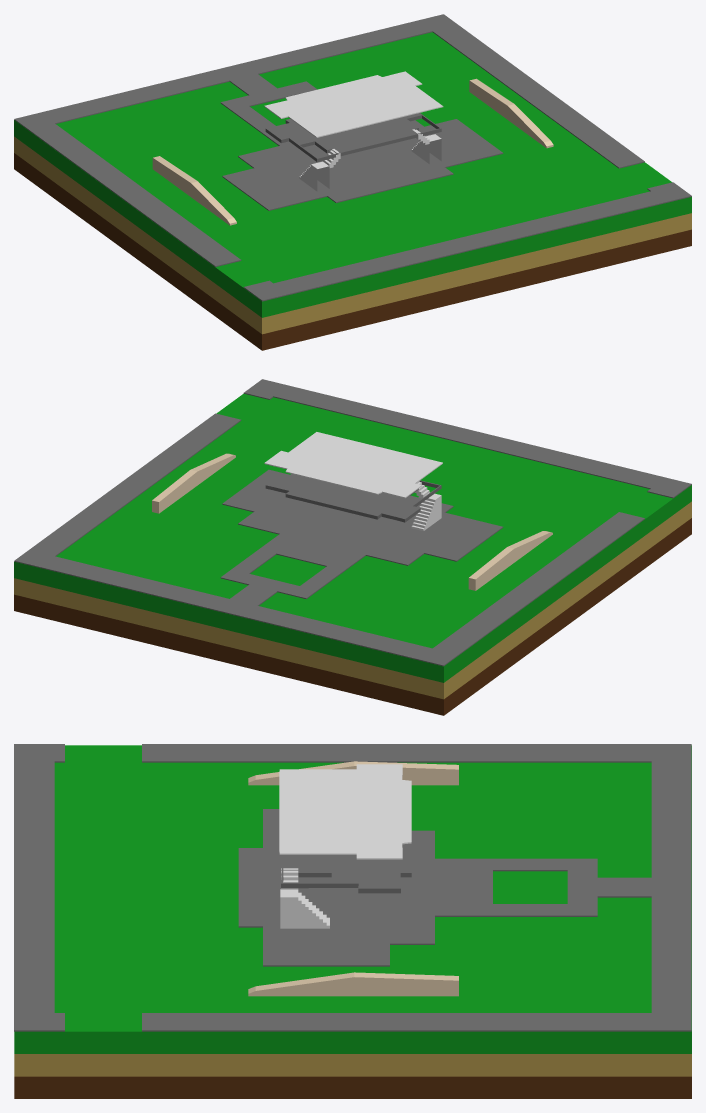
File: Zipaquira-Station-HitBox.glb
3 views of the same model, one above another, from view 1: azimuth 30°, elevation 25°; view 2: azimuth 150°, elevation 25°; view 3: azimuth 270°, elevation 25° (orthographic). The views are drawn at different scales.
Visible parts, largest first — view 1: Plane.009, Plane.010, Cube.943, Cube.897, Cube.892, Cube.945; view 2: Plane.009, Plane.010, Cube.943, Cube.897, Cube.892, Cube.945; view 3: Plane.009, Plane.010, Cube.943, Cube.892, Cube.897, Cube.945.
Boxes of the visible parts, box(x1,y1,x2,y2) form: Plane.009: box(14, 32, 691, 350); Plane.010: box(14, 14, 691, 301); Cube.943: box(264, 71, 443, 137); Cube.897: box(265, 113, 441, 162); Cube.892: box(152, 78, 553, 225); Cube.945: box(299, 134, 441, 191); Plane.009: box(14, 393, 691, 715); Plane.010: box(14, 379, 691, 666); Cube.943: box(264, 432, 442, 498); Cube.897: box(265, 474, 441, 522); Cube.892: box(152, 453, 552, 590); Cube.945: box(299, 492, 441, 531); Plane.009: box(14, 745, 691, 1098); Plane.010: box(14, 744, 691, 1031); Cube.943: box(279, 764, 411, 859); Cube.892: box(248, 761, 458, 996); Cube.897: box(281, 843, 411, 893); Cube.945: box(280, 889, 329, 928).
Size of what is drawn, in the model's own units: 33.35 by 7.84 by 33.36.
